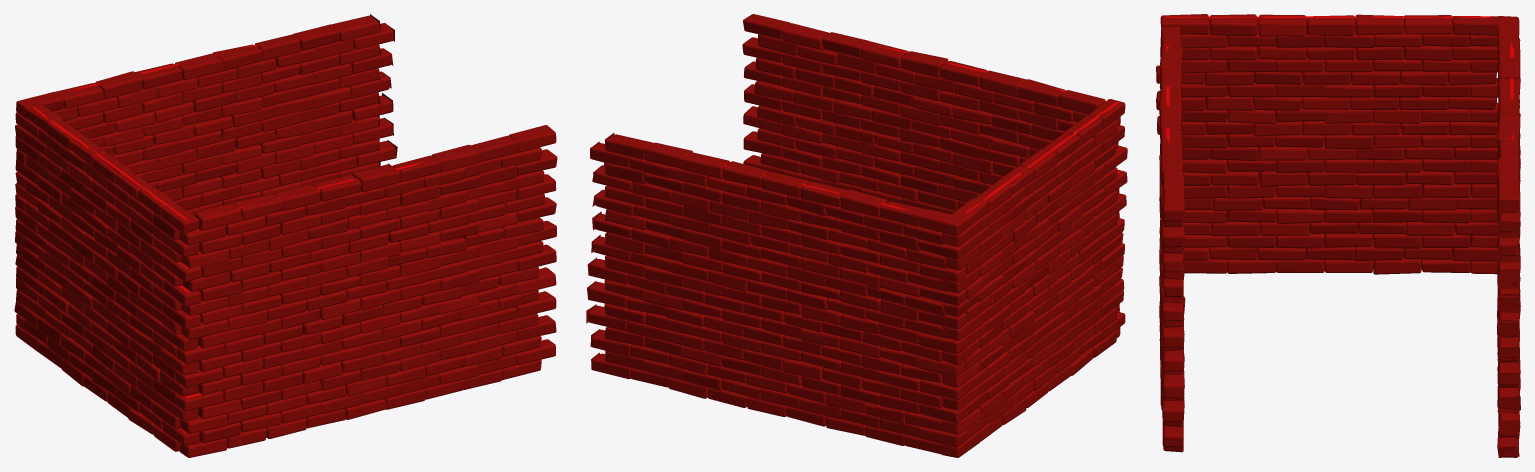
Rendered from SantaWorksMuurtje.fbx.
3 renders of one model, left to right at view 1: azimuth 30°, elevation 25°; view 2: azimuth 150°, elevation 25°; view 3: azimuth 270°, elevation 25°, orthographic. The views are drawn at different scales.
Visible parts, largest first — view 1: Cube.326, Cube.288, Cube.021, Cube.329, Cube.328, Cube.289; view 2: Cube.021, Cube.288, Cube.326, Cube.328, Cube.329, Cube.289; view 3: Cube.288, Cube.328, Cube.329, Cube.326, Cube.021, Cube.289.
Part boxes in pixels (x1,y1,x2,y2): Cube.326: (175, 144, 480, 457); Cube.288: (14, 103, 201, 451); Cube.021: (15, 34, 318, 330); Cube.329: (459, 125, 557, 389); Cube.328: (292, 14, 397, 186); Cube.289: (31, 107, 190, 433); Cube.021: (664, 152, 967, 454); Cube.288: (941, 99, 1127, 457); Cube.326: (821, 32, 1124, 337); Cube.328: (586, 133, 692, 387); Cube.329: (742, 14, 840, 183); Cube.289: (964, 101, 1121, 351); Cube.288: (1156, 14, 1499, 274); Cube.328: (1496, 159, 1520, 457); Cube.329: (1161, 168, 1185, 452); Cube.326: (1159, 26, 1182, 409); Cube.021: (1496, 16, 1520, 396); Cube.289: (1165, 16, 1498, 268).
Bounding box in the file's own units: 1259 × 761 × 993.
